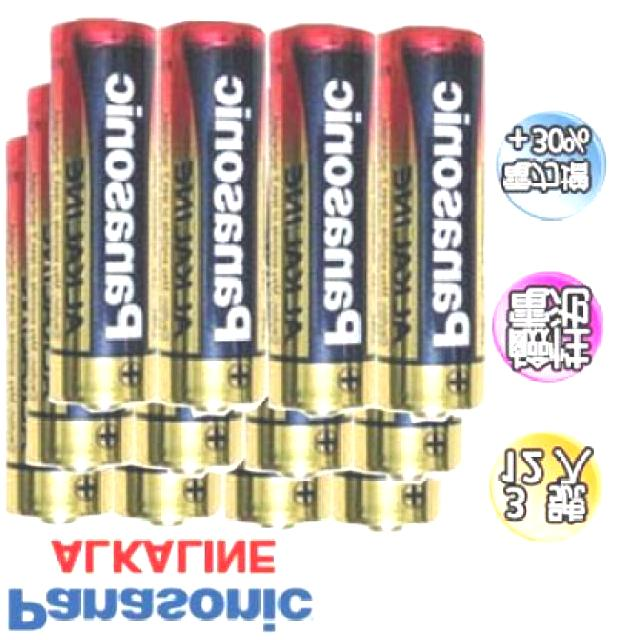AA: (154, 18, 272, 417), (378, 22, 491, 420), (264, 20, 376, 420), (48, 18, 158, 417)
